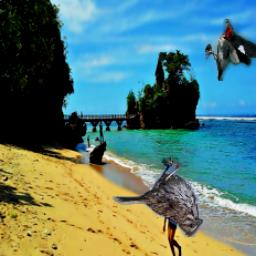Sparrow: (113, 157, 203, 237)
Woodpecker: (206, 19, 256, 81)
